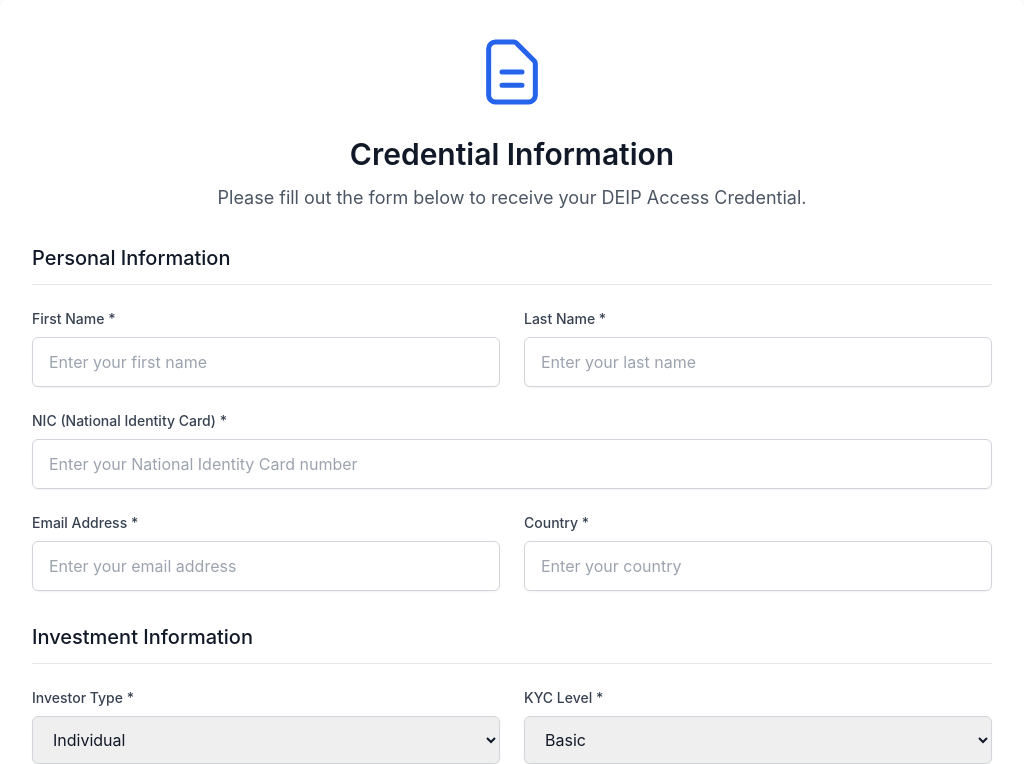
Test case: CredentialFormPage › handles form submission errors gracefully
// Fill out the form
Type "John" into the field labelled "First Name *" at (266, 362), box x1=32 y1=337 x2=500 y2=387
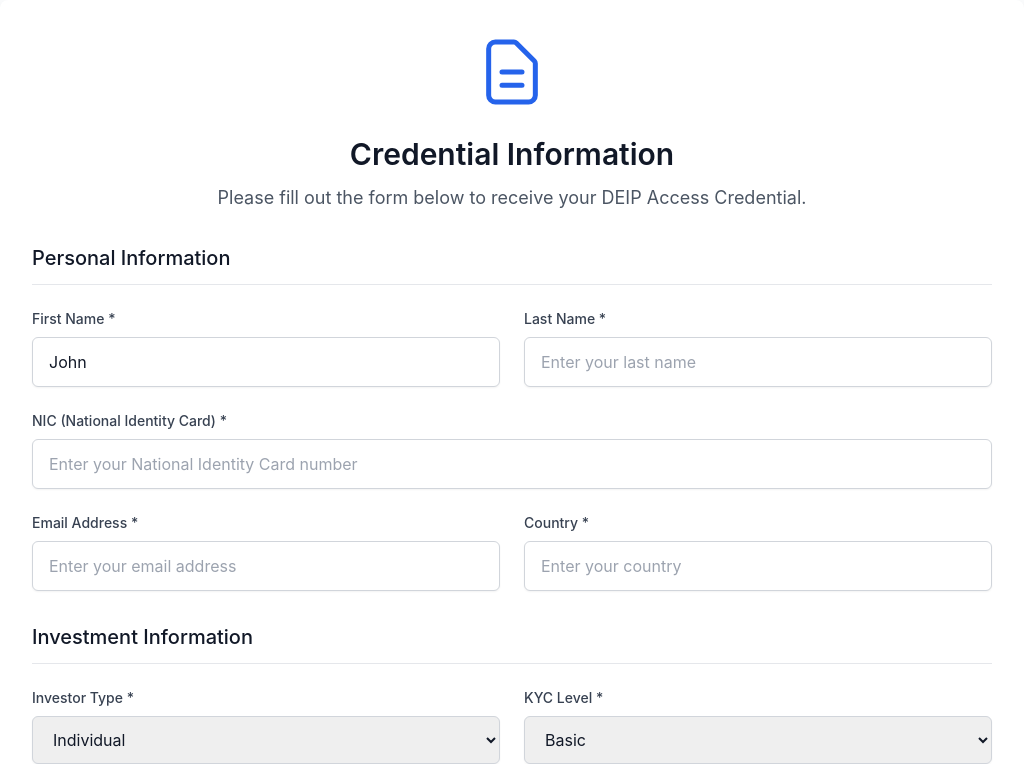
Type "Doe" into the field labelled "Last Name *" at (758, 362), box x1=524 y1=337 x2=992 y2=387
(page scrolled)
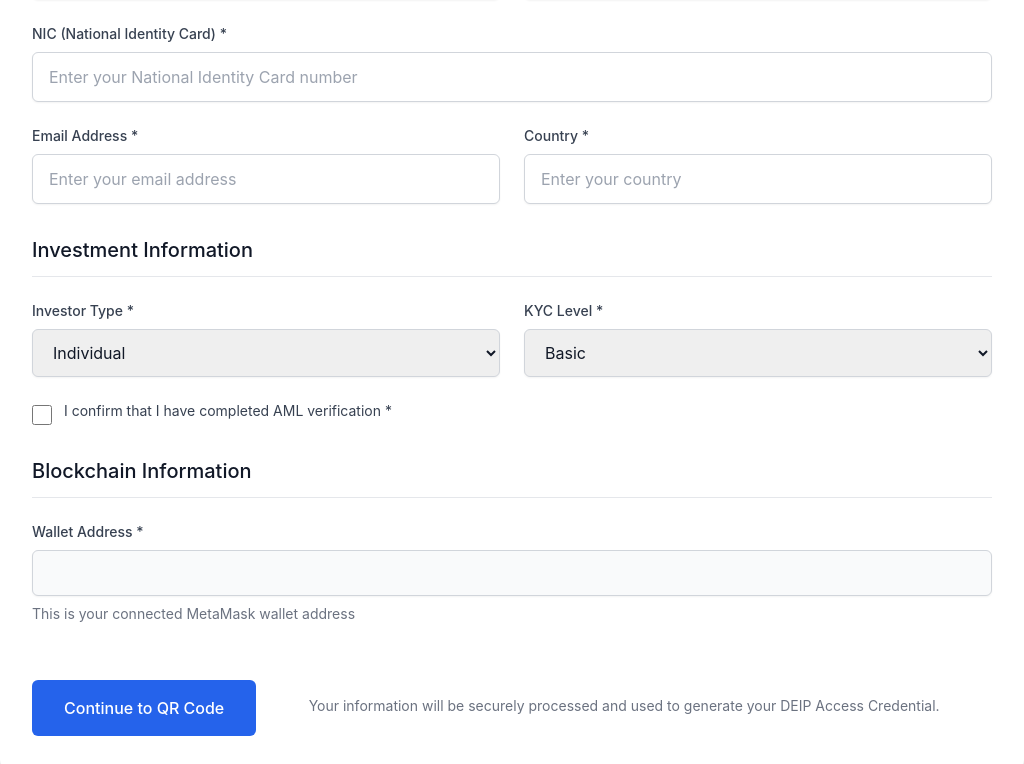
Click the button "Continue to QR Code" at (144, 708), box x1=32 y1=680 x2=256 y2=736
(page scrolled)
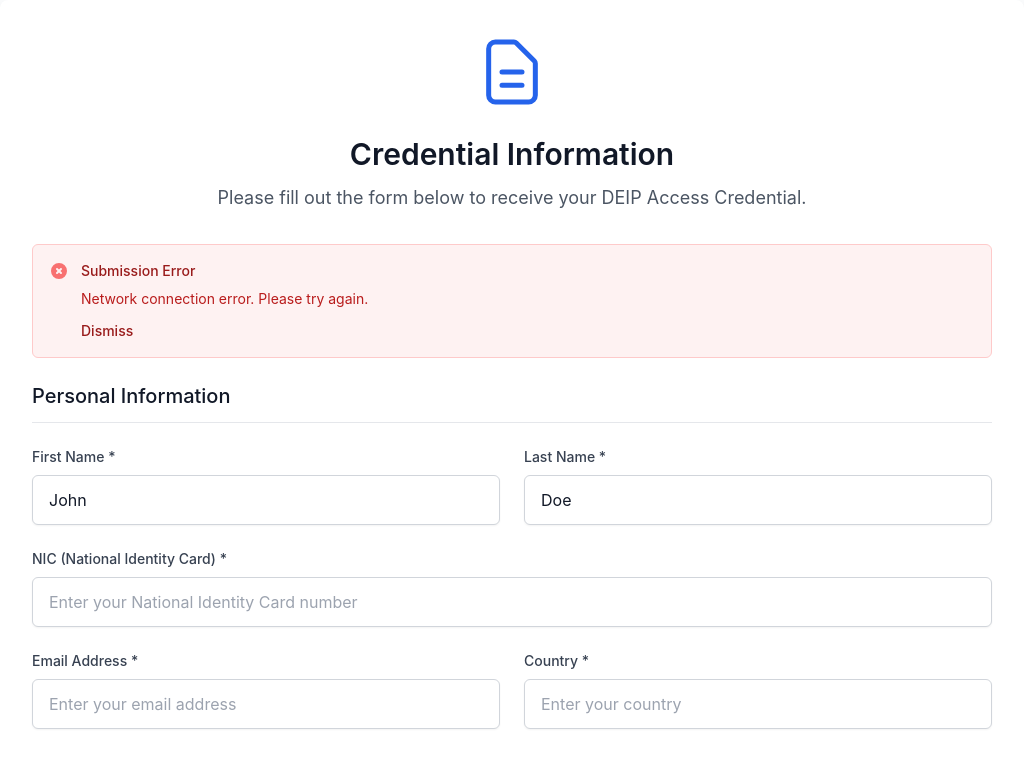
expect the text "Network connection error. Please try again." is shown: met, box x1=81 y1=289 x2=368 y2=309
